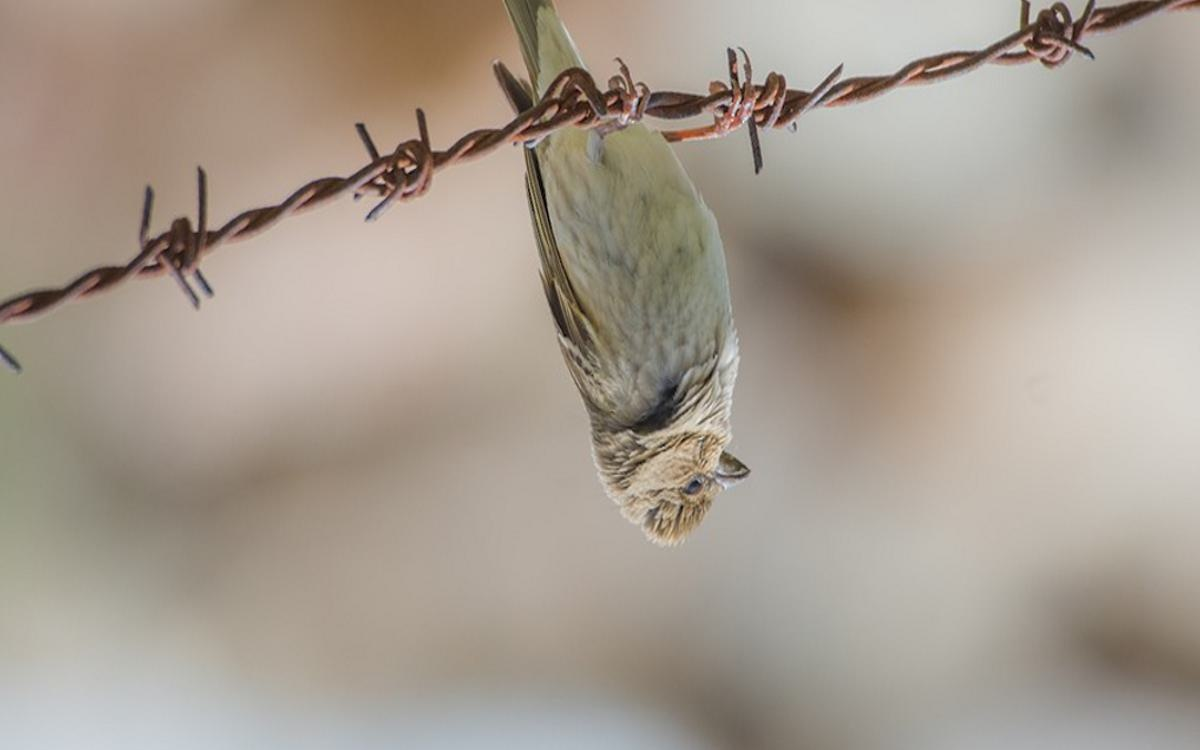rosefinch: (489, 21, 770, 535)
